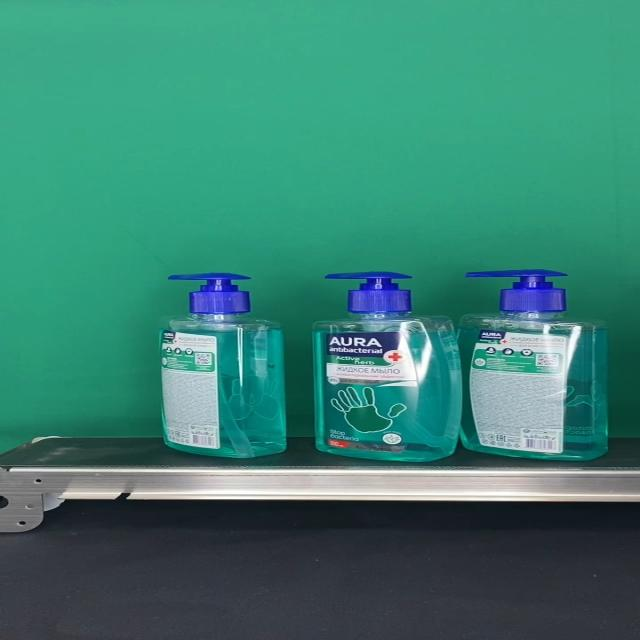Bottle: (454, 270, 609, 461), (310, 270, 462, 462), (156, 272, 286, 458)
Cap: (464, 270, 568, 312), (322, 270, 412, 312), (166, 272, 252, 313)
